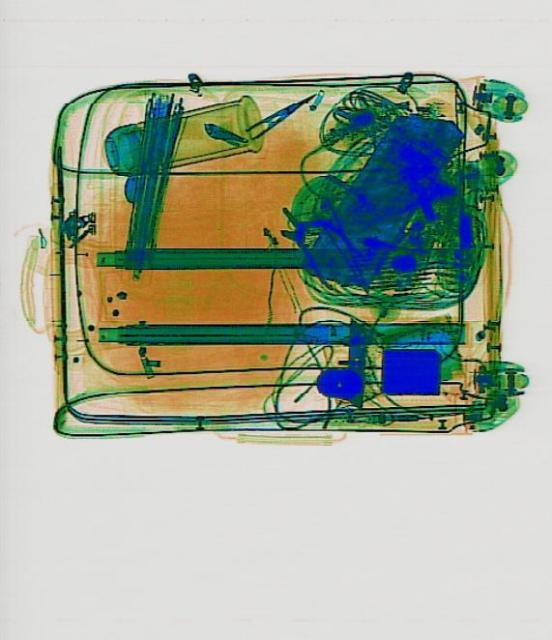Pliers: (260, 196, 360, 290), (239, 85, 317, 141)
